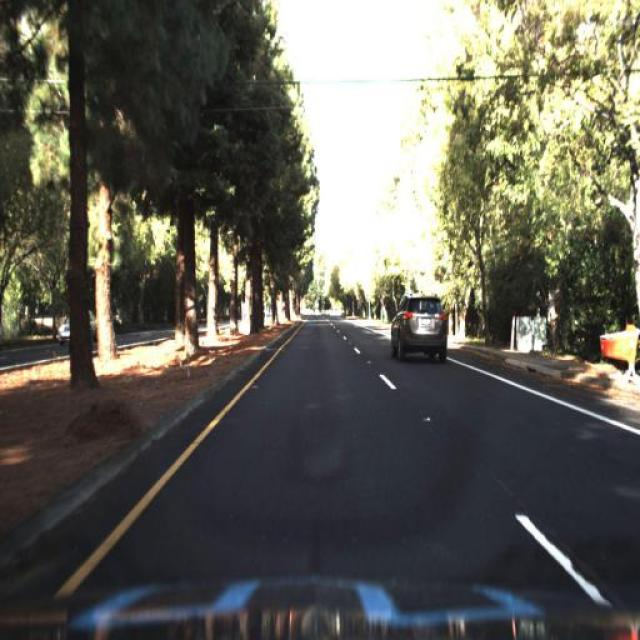car: (391, 292, 449, 363)
